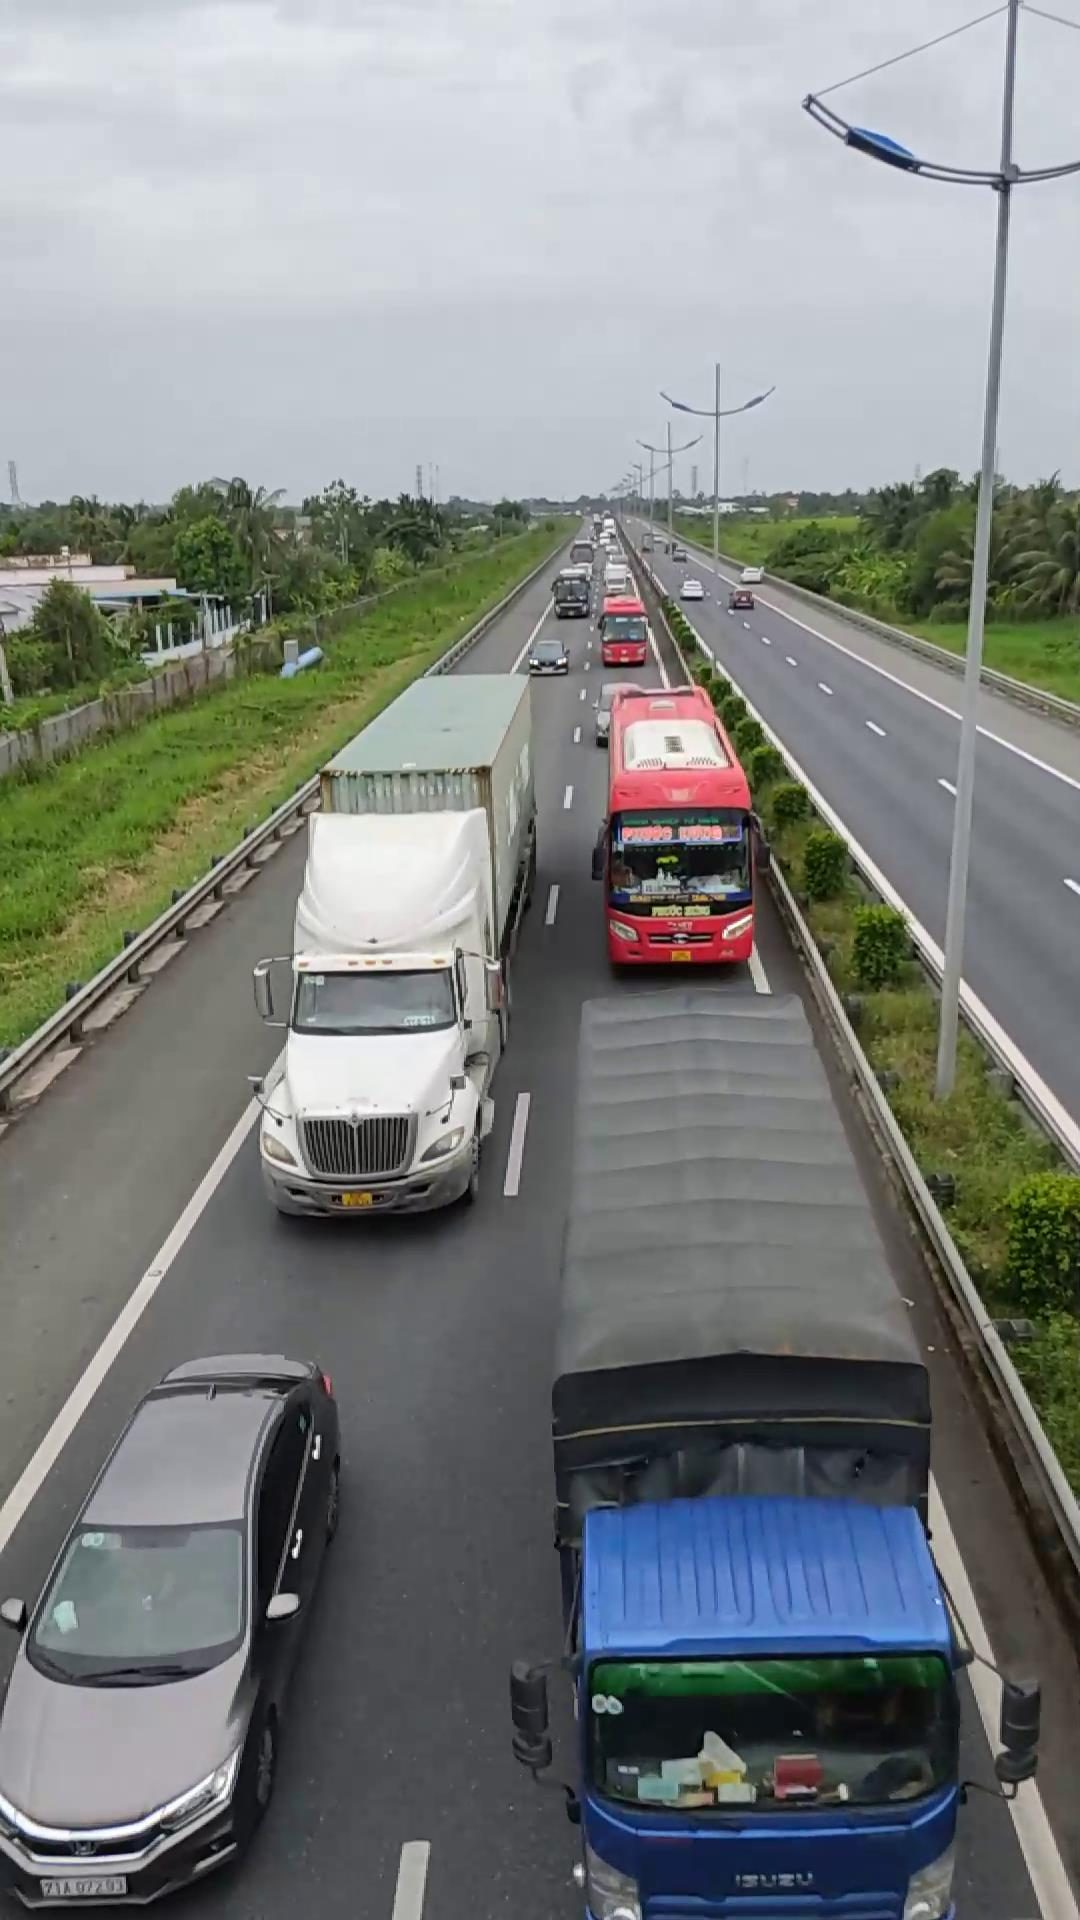bus: (593, 680, 762, 973)
car: (0, 1352, 345, 1910)
container: (253, 664, 535, 1218)
truck: (556, 986, 973, 1915)
